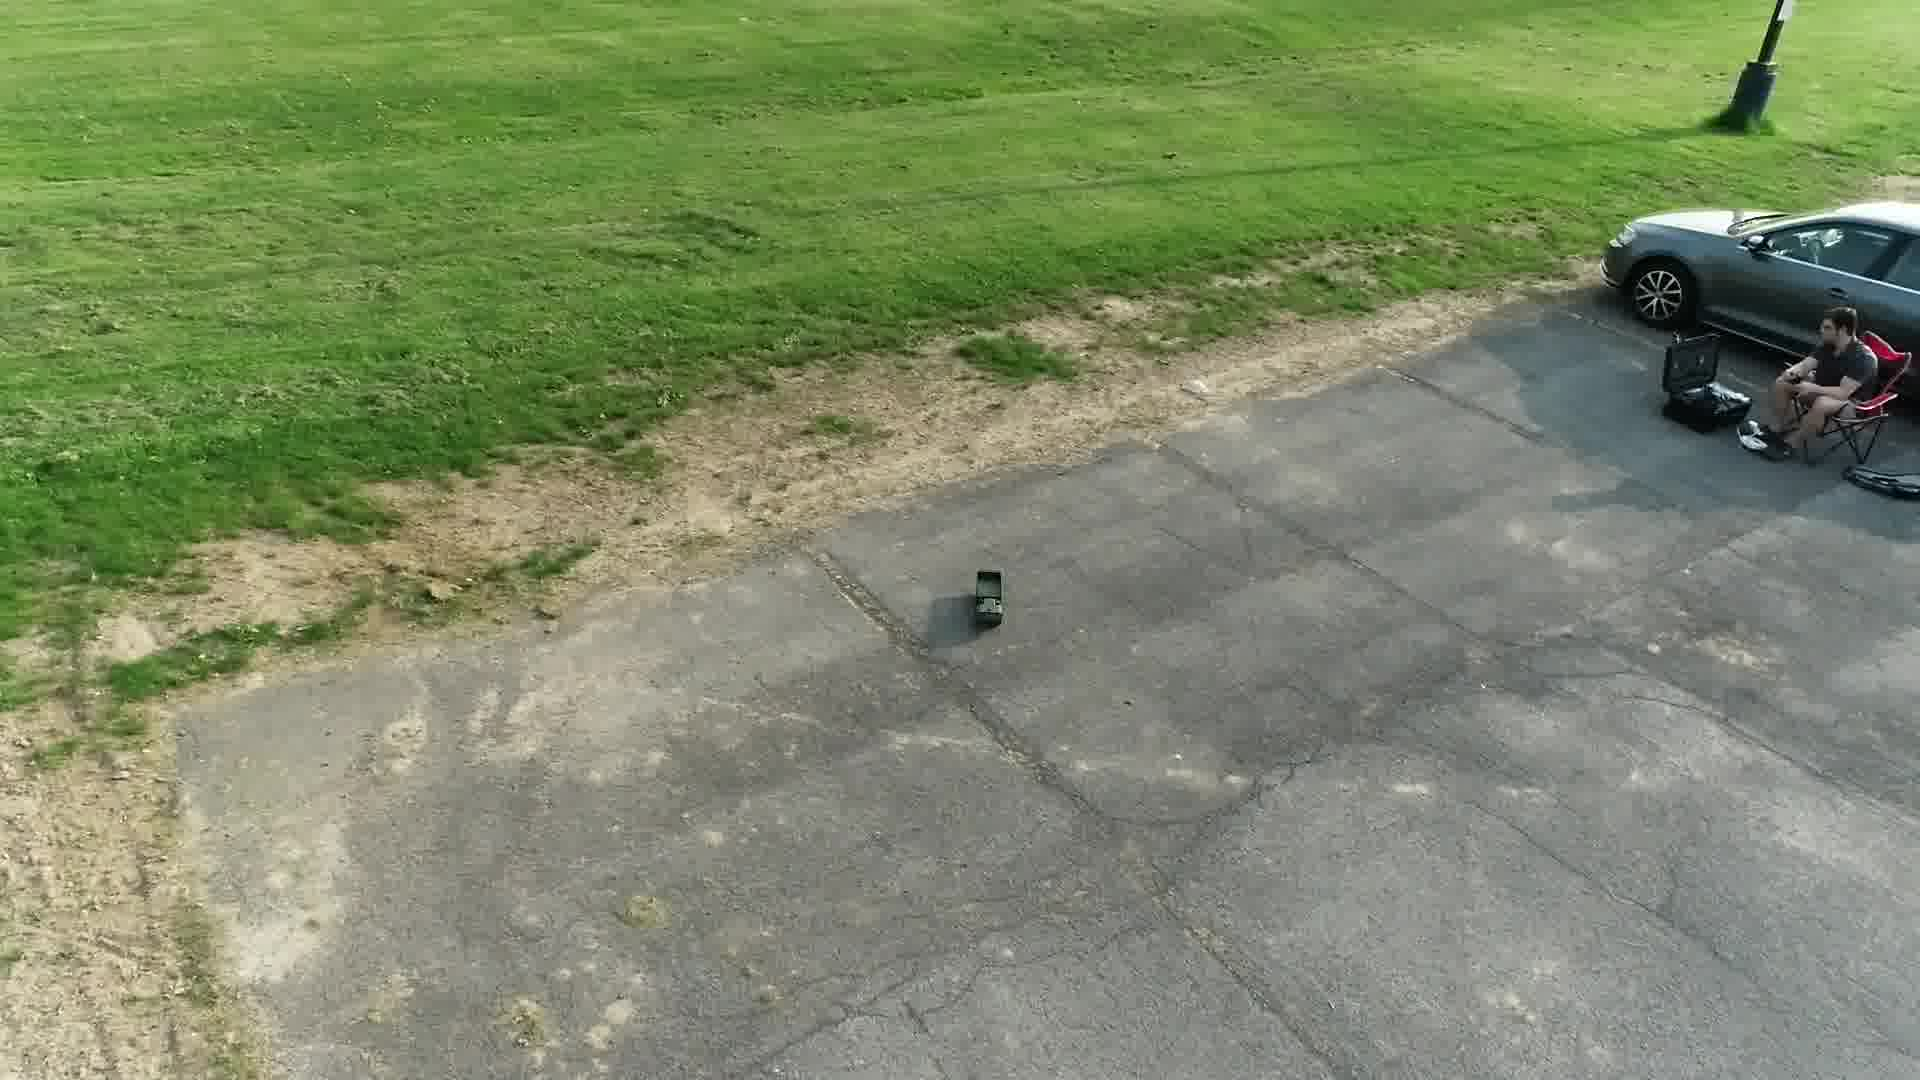transporter9: (971, 567, 1009, 632)
